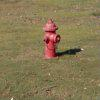Hydrant: (32, 10, 68, 67)
